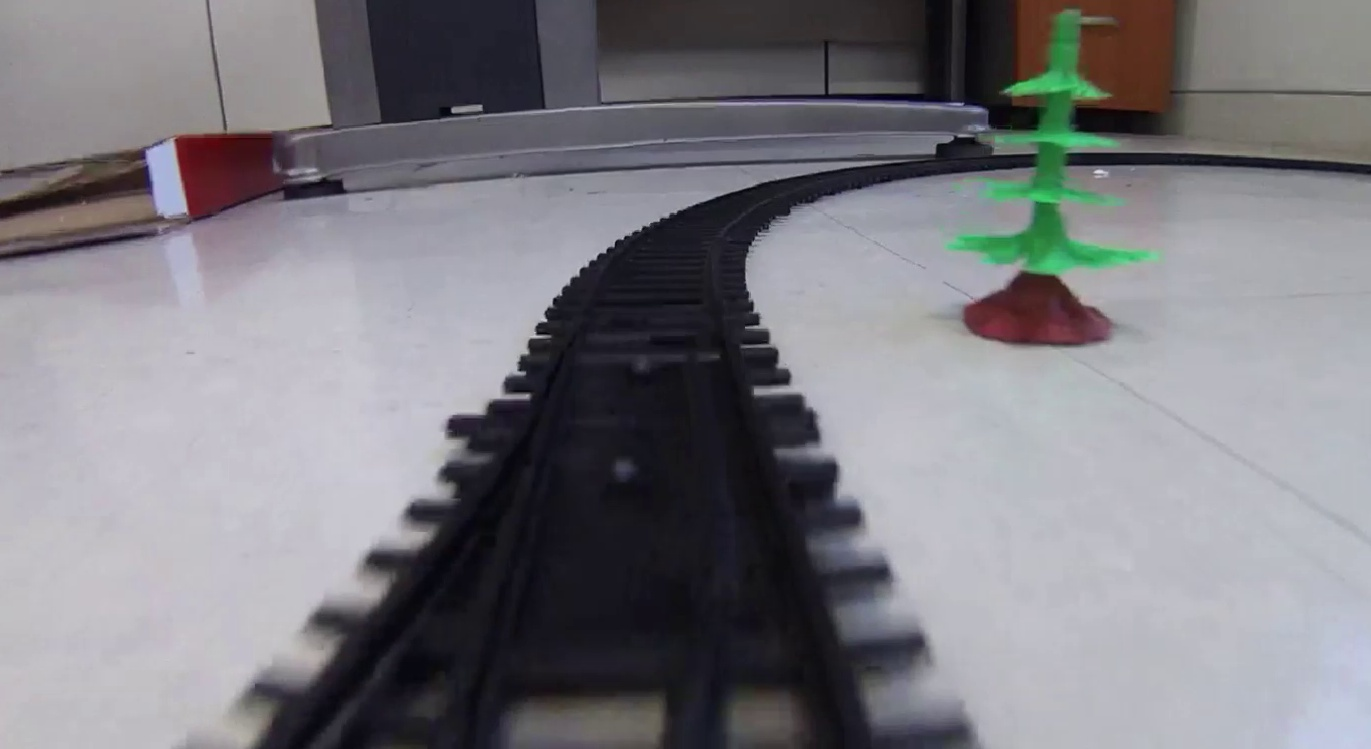tree: (943, 11, 1162, 345)
